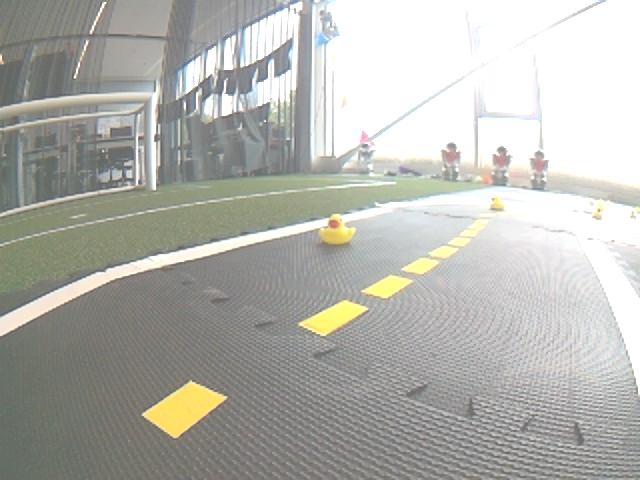Duckies: (318, 215, 358, 245), (489, 196, 505, 210), (592, 207, 602, 220), (629, 209, 637, 219), (596, 202, 603, 211), (588, 198, 594, 206), (606, 200, 612, 207)
